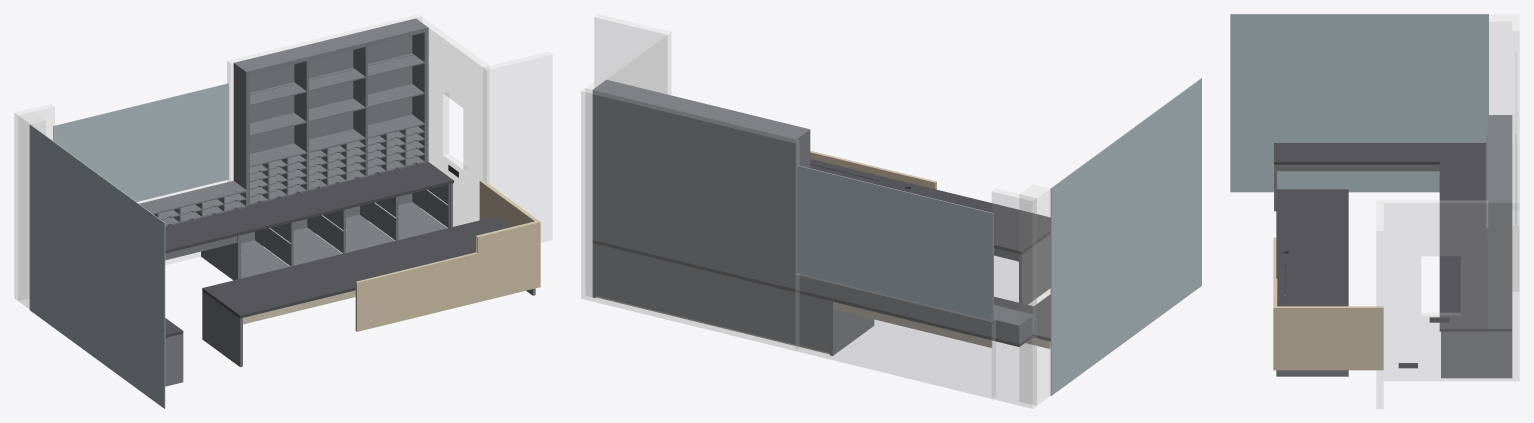
The model's file is korpus.glb.
The picture shows the model from 3 angles, left to right: view 1: azimuth 30°, elevation 25°; view 2: azimuth 150°, elevation 25°; view 3: azimuth 270°, elevation 25°; orthographic projection. The views are drawn at different scales.
Bounding box in the file's own units: 7077 × 2708 × 3984.
